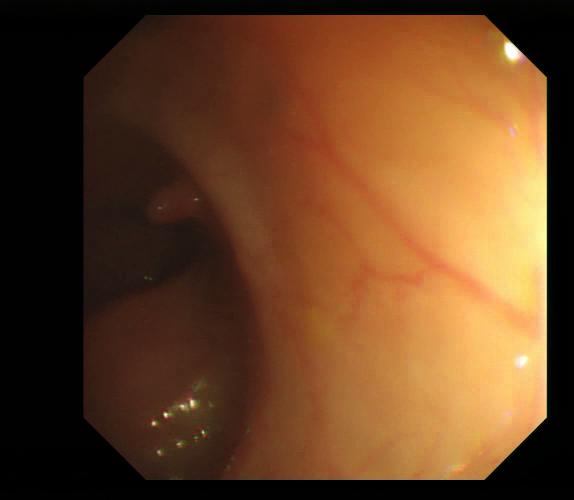polyp: (143, 175, 207, 225)
